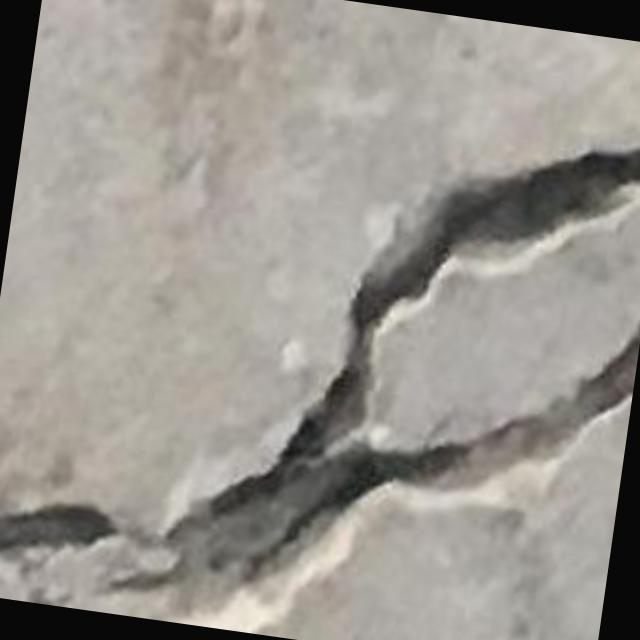crack: (109, 148, 639, 602)
